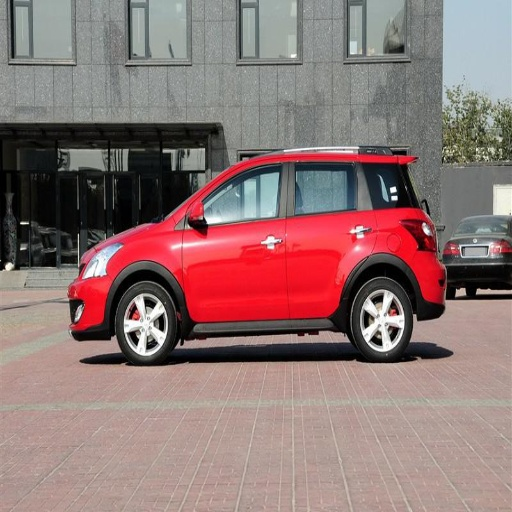back_left_door: (289, 159, 376, 315)
front_left_door: (183, 161, 292, 318)
